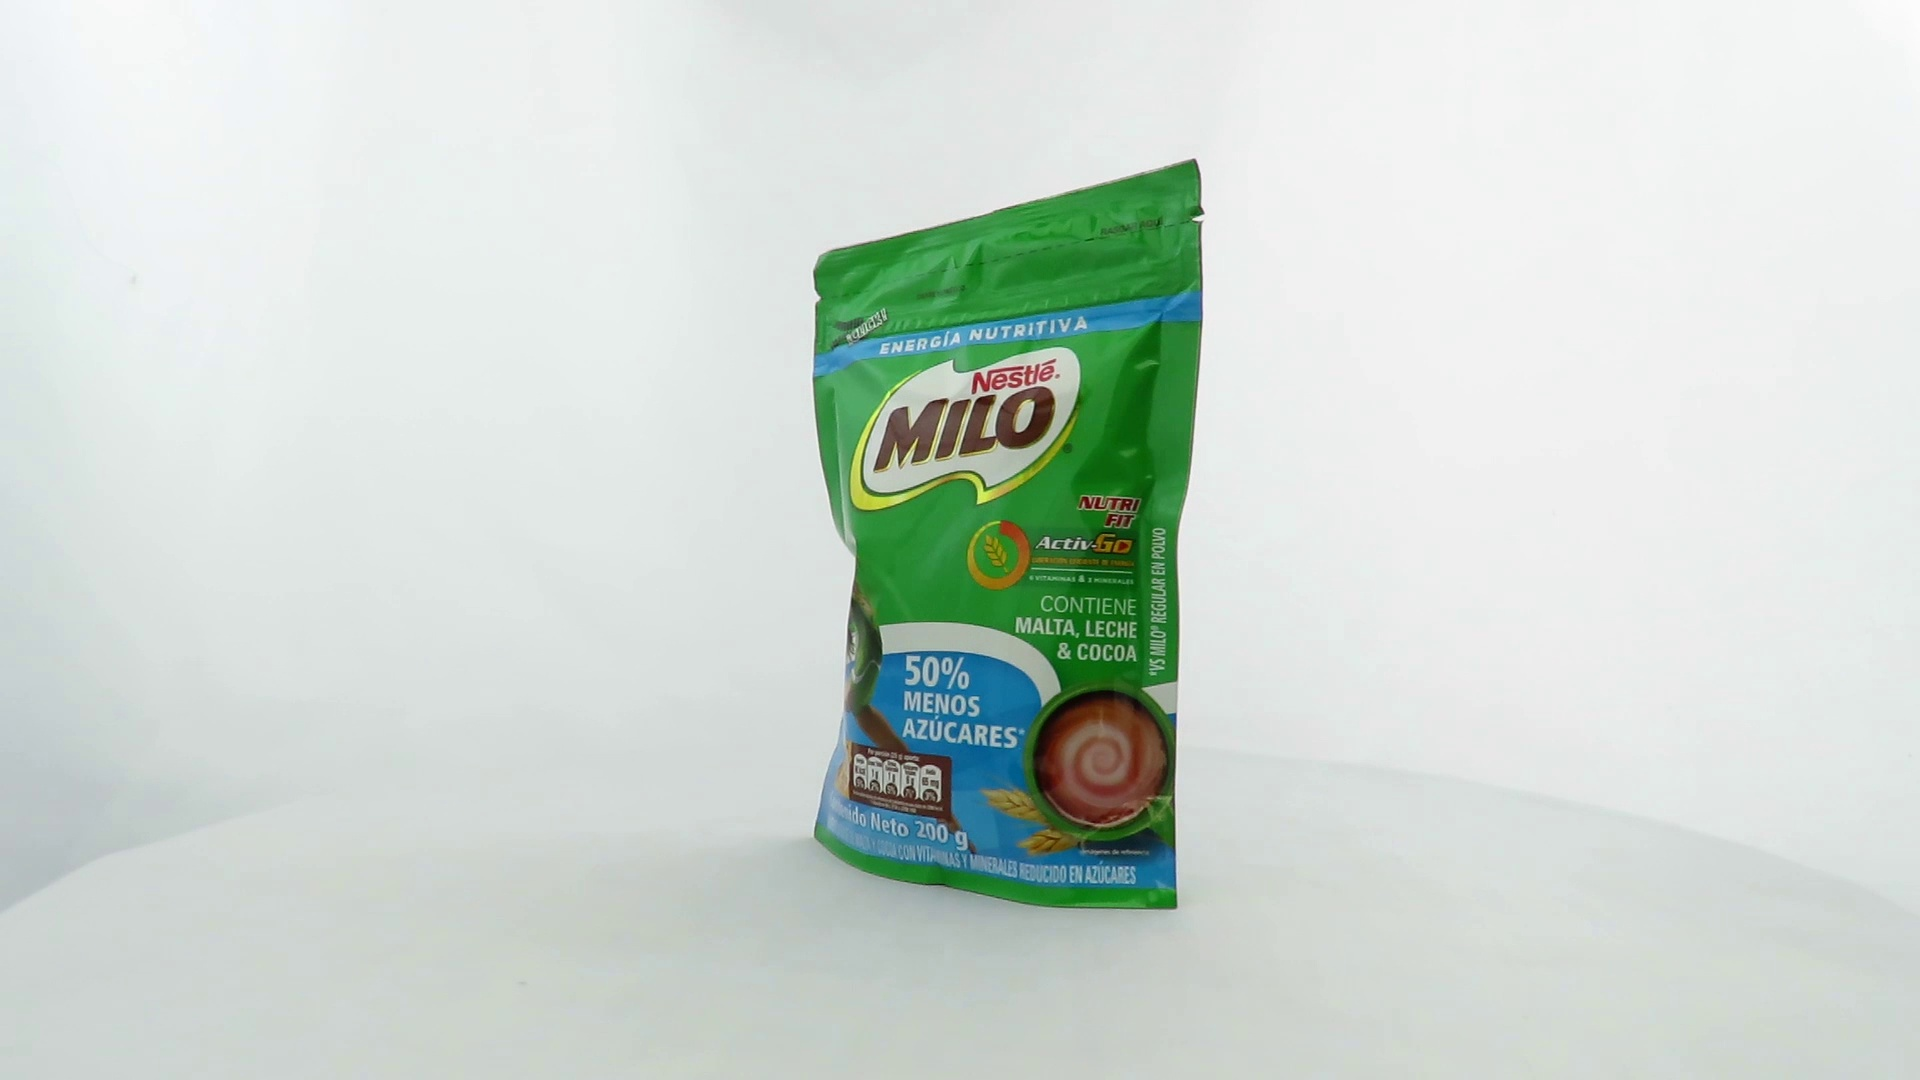COL0170205DYP20000: (807, 153, 1211, 916)
